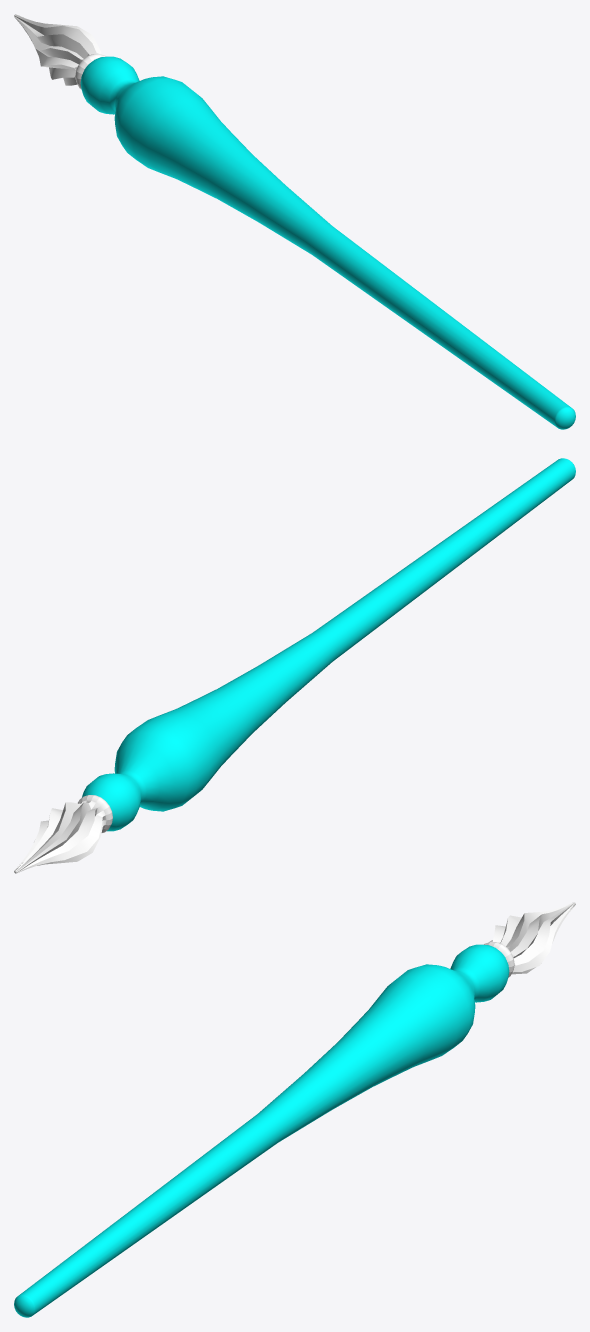
The model's file is GlassPen_Plain.fbx.
3 views of the same model, one above another, from view 1: azimuth 30°, elevation 25°; view 2: azimuth 150°, elevation 25°; view 3: azimuth 330°, elevation 25° (orthographic).
Parts seen in each view (by area): view 1: glasspen_body; view 2: glasspen_body; view 3: glasspen_body.
Part boxes in pixels (x1=…): glasspen_body: x1=14, y1=14, x2=575, y2=429; glasspen_body: x1=14, y1=458, x2=575, y2=873; glasspen_body: x1=14, y1=902, x2=575, y2=1317.
Bounding box in the file's own units: 1.44 × 1.44 × 17.55.
